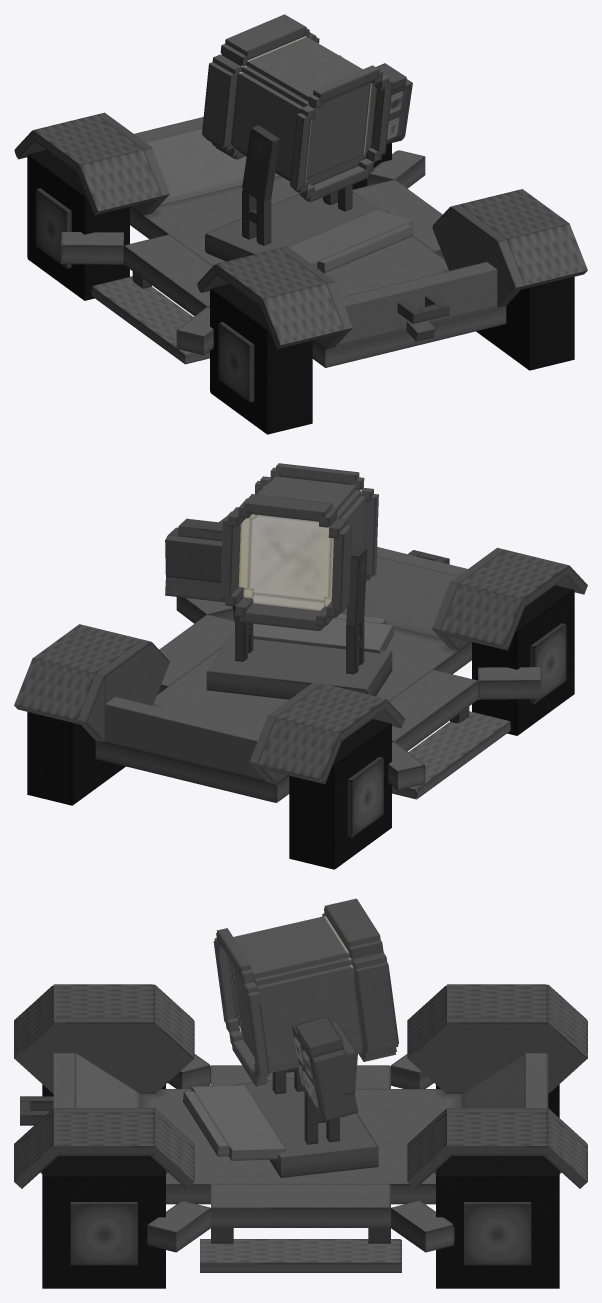
Rendered from spotlight.obj.
3 renders of one model, top to bottom at view 1: azimuth 30°, elevation 25°; view 2: azimuth 150°, elevation 25°; view 3: azimuth 270°, elevation 25°, orthographic. The views are drawn at different scales.
Parts seen in each view (by area): view 1: baseModel15, baseModel5, baseModel23, baseModel89, baseModel6, baseModel4, baseModel92, baseModel96, baseModel93, baseModel42, baseModel46, baseModel48 (+32 smaller); view 2: baseModel15, baseModel23, baseModel4, baseModel91, baseModel5, baseModel42, baseModel24, baseModel90, baseModel96, baseModel93, baseModel9, baseModel27 (+34 smaller); view 3: baseModel15, baseModel24, baseModel6, baseModel103, baseModel101, baseModel4, baseModel44, baseModel34, baseModel17, baseModel46, baseModel29, baseModel11 (+41 smaller).
Part boxes in pixels (x1,y1,x2,y2): baseModel15: (130, 175, 506, 367); baseModel5: (210, 284, 312, 434); baseModel23: (27, 150, 129, 300); baseModel89: (336, 262, 497, 346); baseModel6: (476, 276, 574, 370); baseModel4: (205, 193, 389, 261); baseModel92: (144, 127, 279, 204); baseModel96: (123, 234, 212, 316); baseModel93: (91, 276, 209, 364); baseModel42: (305, 83, 370, 179); baseModel46: (246, 36, 370, 102); baseModel48: (231, 72, 303, 178); baseModel15: (95, 628, 471, 802); baseModel23: (289, 719, 391, 869); baseModel4: (206, 633, 392, 699); baseModel91: (104, 697, 265, 781); baseModel5: (472, 585, 574, 735); baseModel42: (248, 514, 331, 601); baseModel24: (27, 712, 125, 805); baseModel90: (340, 557, 456, 639); baseModel96: (389, 669, 478, 751); baseModel93: (392, 711, 510, 799); baseModel9: (441, 584, 525, 650); baseModel27: (258, 718, 341, 784); baseModel15: (140, 1089, 461, 1204); baseModel24: (436, 1156, 559, 1288); baseModel6: (42, 1156, 165, 1288); baseModel103: (211, 1184, 390, 1227); baseModel101: (200, 1239, 401, 1272); baseModel4: (234, 1077, 378, 1177); baseModel44: (257, 965, 363, 1068); baseModel34: (447, 1017, 548, 1093); baseModel17: (53, 1017, 154, 1093); baseModel46: (233, 916, 349, 979); baseModel29: (447, 1112, 548, 1155); baseModel11: (53, 1112, 154, 1155).
Size of the model in its own units: 2.52 by 1.74 by 3.19.
1 material, 1 textured.
